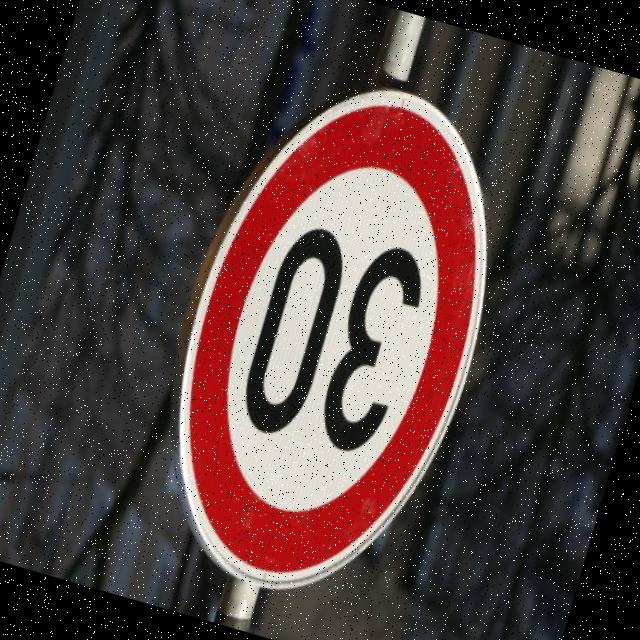speed_limit_30: (111, 17, 566, 638)
